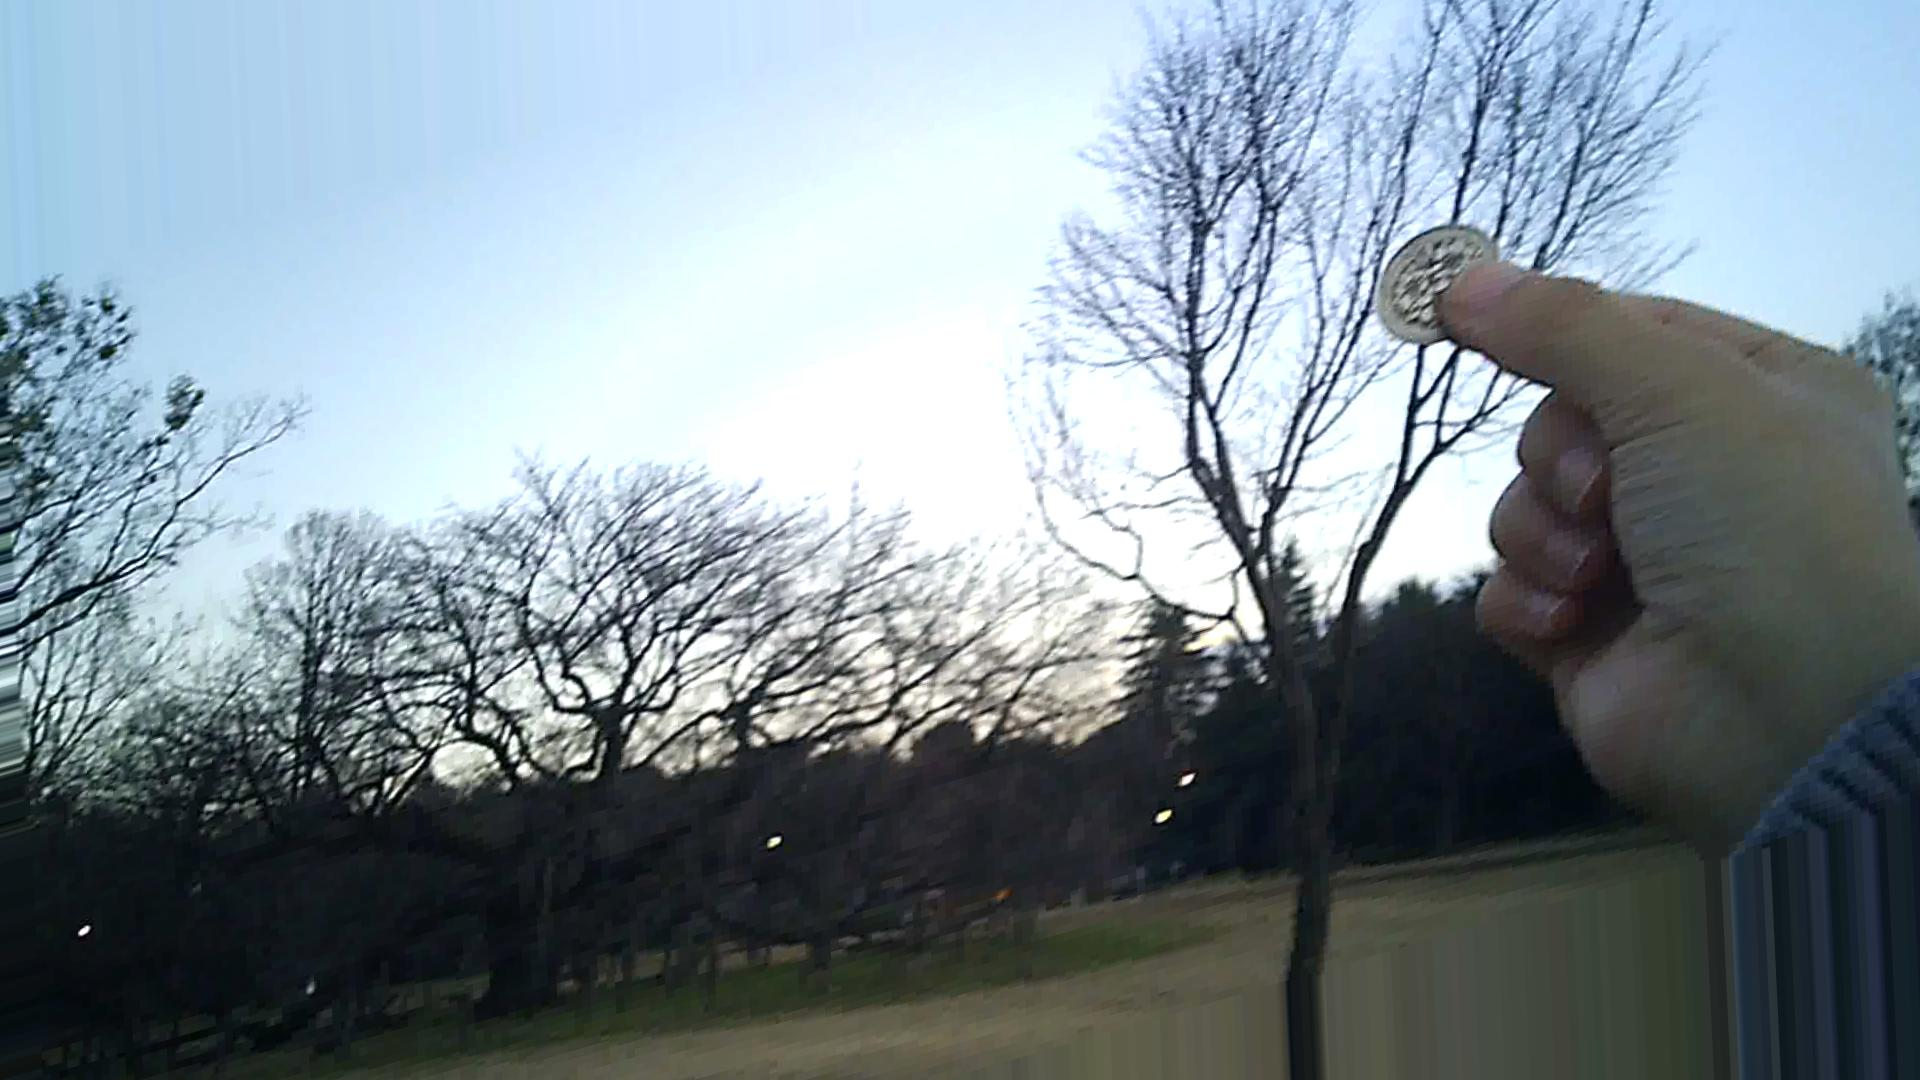100 Yen: (1367, 212, 1501, 340)
